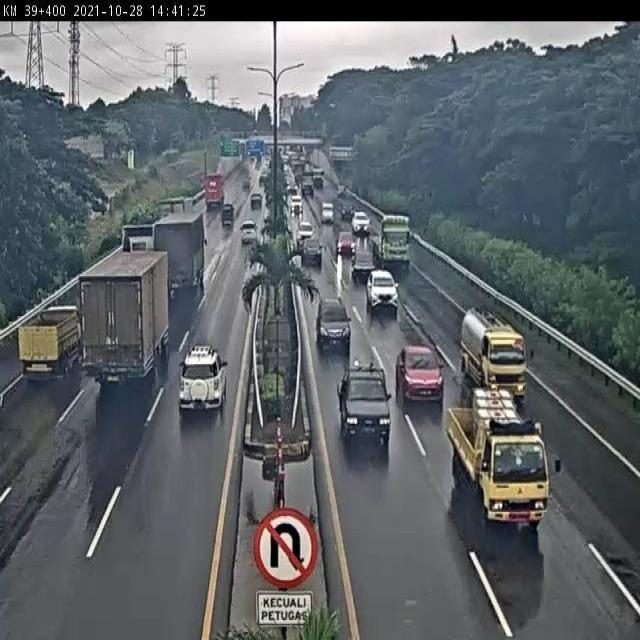big truck: (111, 223, 157, 276)
car: (337, 360, 391, 444), (178, 344, 228, 412), (396, 346, 445, 406), (315, 298, 351, 351), (366, 271, 398, 312), (351, 248, 375, 280), (240, 220, 258, 243)
mid truck: (77, 250, 171, 382), (153, 211, 206, 289), (157, 196, 195, 237)
small truck: (16, 304, 82, 380)
truck-m-: (445, 388, 552, 527), (459, 306, 528, 402)
